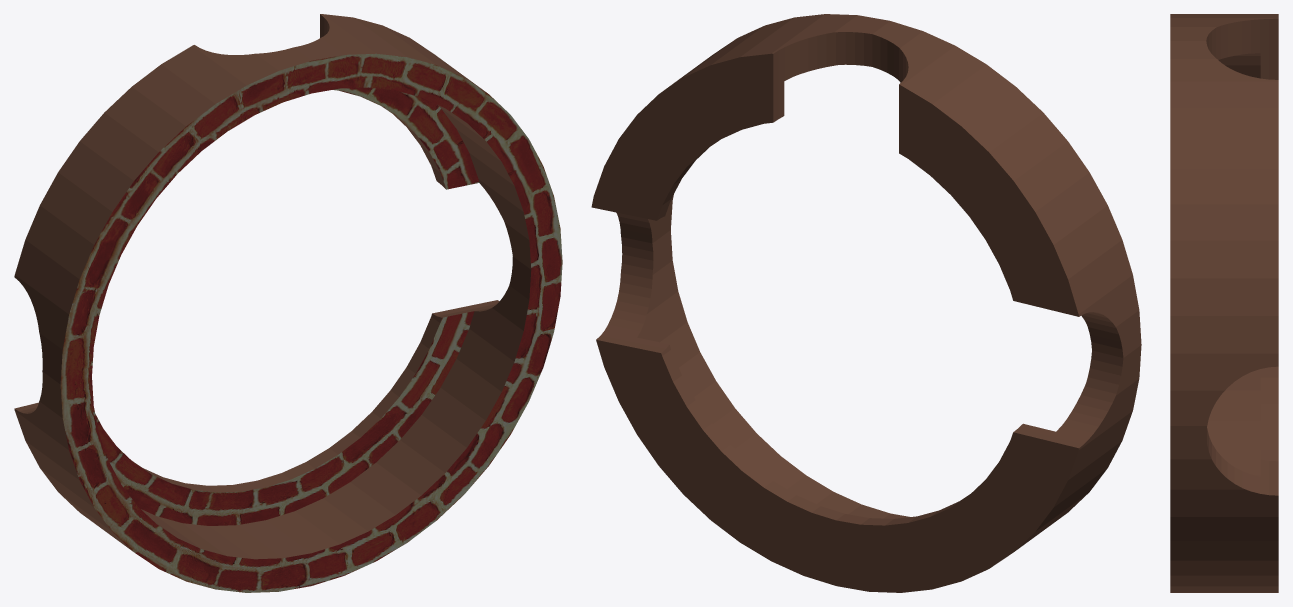
The model's file is pool_043.obj.
The picture shows the model from 3 angles, left to right: view 1: azimuth 30°, elevation 25°; view 2: azimuth 150°, elevation 25°; view 3: azimuth 270°, elevation 25°; orthographic projection.
Bounding box in the file's own units: 16 × 16 × 3.
